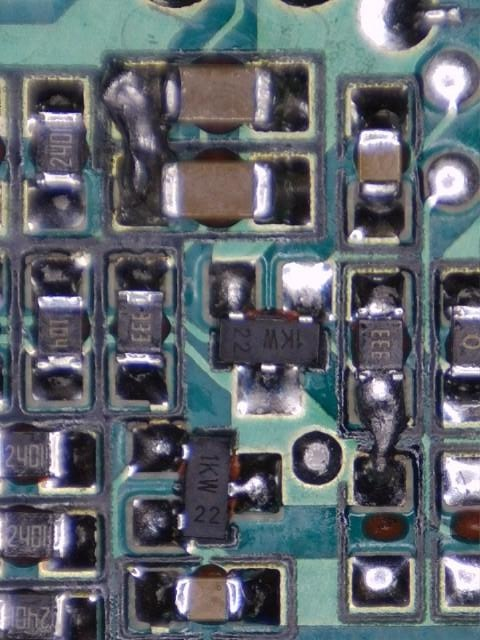pcb_defect: (102, 62, 181, 227), (353, 369, 407, 507)
